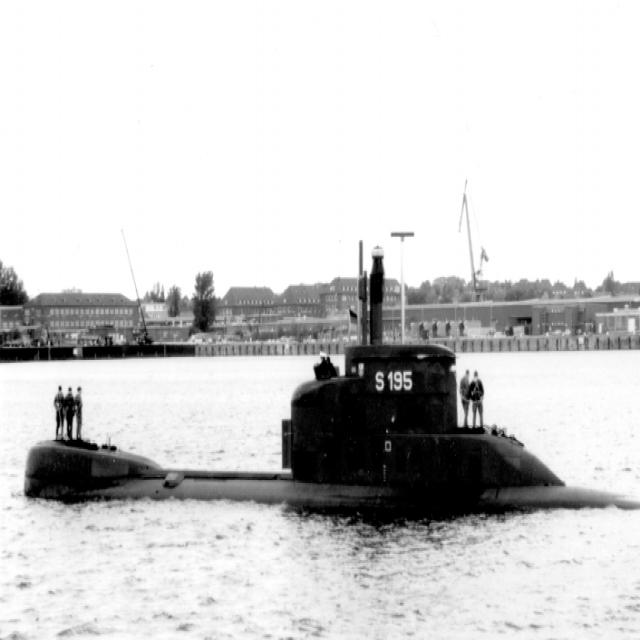submarine: (23, 341, 640, 522)
